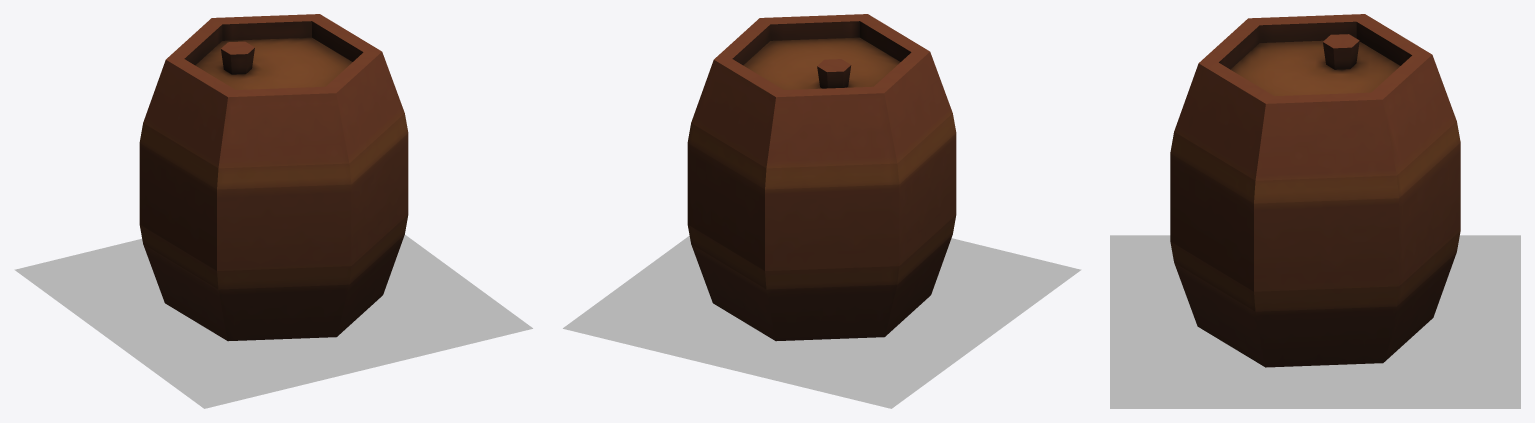
File: 1x1_barrel.FBX
3 renders of one model, left to right at view 1: azimuth 30°, elevation 25°; view 2: azimuth 150°, elevation 25°; view 3: azimuth 270°, elevation 25°, orthographic. The views are drawn at different scales.
Parts seen in each view (by area): view 1: 1x1_barrel, 1x1_barrel_soft_shadow; view 2: 1x1_barrel, 1x1_barrel_soft_shadow; view 3: 1x1_barrel, 1x1_barrel_soft_shadow.
Boxes of the visible parts, <box> form: 1x1_barrel: <box>139,14,408,341</box>; 1x1_barrel_soft_shadow: <box>14,235,532,408</box>; 1x1_barrel: <box>687,14,956,341</box>; 1x1_barrel_soft_shadow: <box>563,235,1081,408</box>; 1x1_barrel: <box>1170,14,1460,367</box>; 1x1_barrel_soft_shadow: <box>1110,235,1520,408</box>.
Size of the model in its own units: 1400 by 1019 by 1400.
